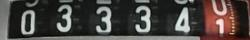digits: (95, 5, 113, 36), (134, 6, 152, 34), (174, 6, 191, 34), (56, 4, 72, 32), (20, 9, 36, 35), (216, 16, 226, 38)
